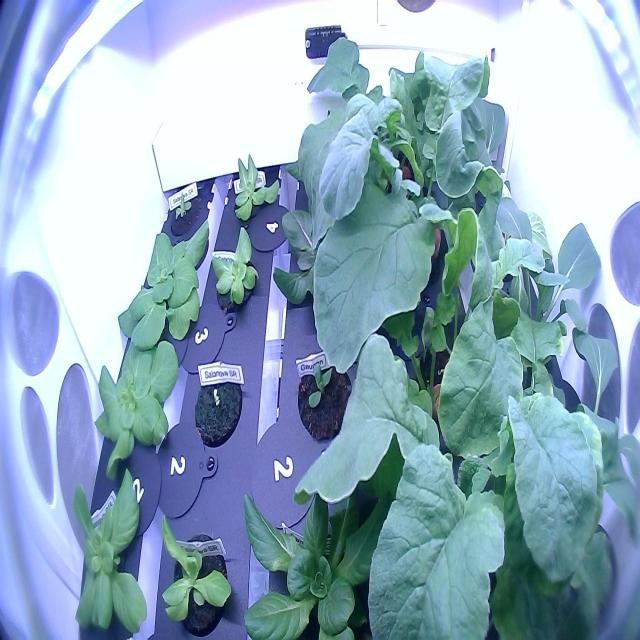germination: (190, 359, 246, 451)
young: (233, 455, 417, 640), (79, 322, 186, 488), (110, 202, 215, 358), (66, 458, 155, 636), (154, 503, 239, 639), (292, 344, 359, 449), (205, 216, 267, 326), (222, 138, 286, 232), (162, 177, 207, 240)
